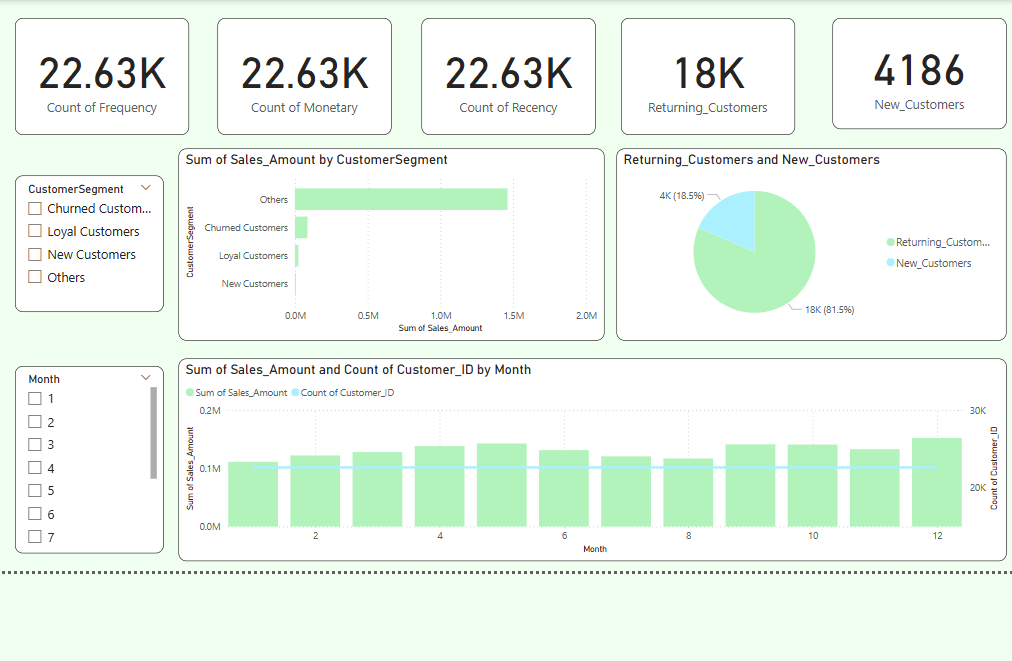

The dashboard page shown, as its layout file describes it:
{"tool":"powerbi","page":{"name":"Phân tích khách hàng","canvas":[1280,720],"ordinal":1},"visuals":[{"type":"card","fields":{"Values":["DimCustomer.Returning_Customers"]},"box":[782.4,22.7,219.2,147.4],"z":0},{"type":"card","fields":{"Values":["DimCustomer.New_Customers"]},"box":[1048.8,22.7,219.2,139.8],"z":1000},{"type":"pieChart","fields":{"Y":["DimCustomer.Returning_Customers","DimCustomer.New_Customers"]},"box":[776.7,187.1,491.3,241.9],"z":2000},{"type":"clusteredBarChart","fields":{"Category":["DimCustomer.CustomerSegment"],"Y":["Sum(FactSales.Sales_Amount)"]},"box":[224.9,187.1,536.7,241.9],"z":2001},{"type":"card","fields":{"Values":["CountNonNull(DimCustomer.Frequency)"]},"box":[18.9,22.7,219.2,147.4],"z":2003},{"type":"card","fields":{"Values":["CountNonNull(DimCustomer.Recency)"]},"box":[531,22.7,219.2,147.4],"z":2004},{"type":"card","fields":{"Values":["CountNonNull(DimCustomer.Monetary)"]},"box":[274,22.7,219.2,147.4],"z":2005},{"type":"slicer","fields":{"Values":["DimCustomer.CustomerSegment"]},"box":[18.9,221.1,187.1,172],"z":2006},{"type":"lineClusteredColumnComboChart","fields":{"Category":["DimDate.Month"],"Y":["Sum(FactSales.Sales_Amount)"],"Y2":["Count(DimCustomer.Customer_ID)"]},"box":[224.9,451.7,1043.2,255.1],"z":2007},{"type":"slicer","fields":{"Values":["DimDate.Month"]},"box":[18.9,461.1,187.1,236.2],"z":2008}]}

Visuals, with their boxes on the page's 1280x720 design canvas (x1, y1, x2, y2). These are canvas units, not pixel positions in the 1012x661 screenshot, which may show the page scaled, cropped or inside an application window:
card - DimCustomer.Returning_Customers: box(782, 23, 1002, 170)
card - DimCustomer.New_Customers: box(1049, 23, 1268, 162)
pieChart - DimCustomer.Returning_Customers x DimCustomer.New_Customers: box(777, 187, 1268, 429)
clusteredBarChart - DimCustomer.CustomerSegment x Sum(FactSales.Sales_Amount): box(225, 187, 762, 429)
card - CountNonNull(DimCustomer.Frequency): box(19, 23, 238, 170)
card - CountNonNull(DimCustomer.Recency): box(531, 23, 750, 170)
card - CountNonNull(DimCustomer.Monetary): box(274, 23, 493, 170)
slicer - DimCustomer.CustomerSegment: box(19, 221, 206, 393)
lineClusteredColumnComboChart - DimDate.Month x Sum(FactSales.Sales_Amount): box(225, 452, 1268, 707)
slicer - DimDate.Month: box(19, 461, 206, 697)
